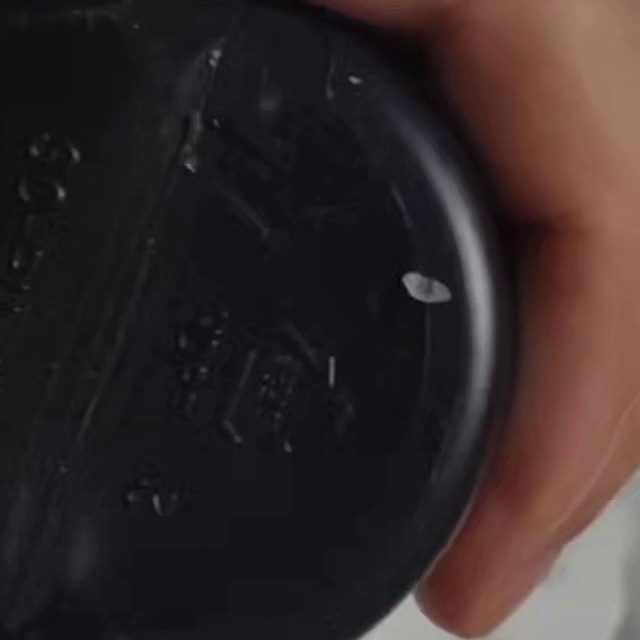Plastic: (212, 326, 351, 457)
